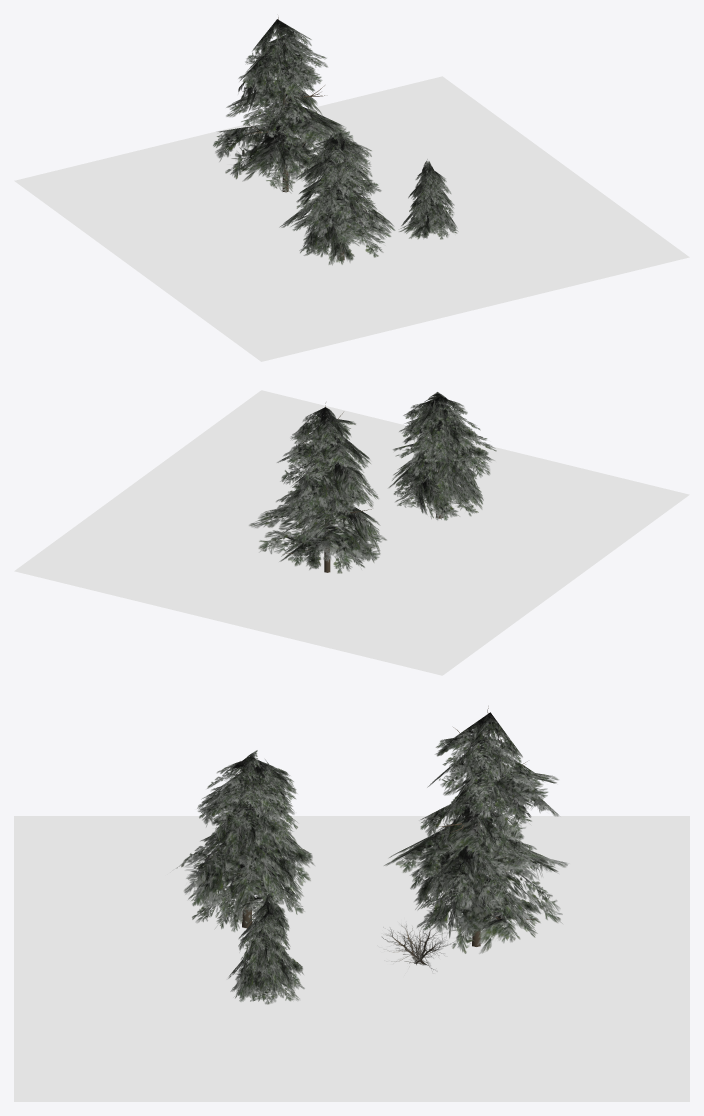
File: trees.glb
3 renders of one model, top to bottom at view 1: azimuth 30°, elevation 25°; view 2: azimuth 150°, elevation 25°; view 3: azimuth 270°, elevation 25°, orthographic. The views are drawn at different scales.
Parts seen in each view (by area): view 1: Plane, SnowTree2, SnowTree1, SnowTree1.001; view 2: Plane, SnowTree2, SnowTree1; view 3: Plane, SnowTree2, SnowTree1, SnowTree1.001, BushBare1.
Part boxes in pixels (x1,y1,x2,y2): Plane: (14, 76, 689, 361); SnowTree2: (213, 17, 353, 193); SnowTree1: (279, 129, 395, 265); SnowTree1.001: (399, 159, 458, 239); Plane: (14, 390, 689, 675); SnowTree2: (249, 403, 386, 573); SnowTree1: (388, 392, 496, 520); Plane: (14, 816, 689, 1101); SnowTree2: (384, 706, 569, 953); SnowTree1: (176, 750, 314, 931); SnowTree1.001: (228, 893, 304, 1004); BushBare1: (377, 921, 454, 971).
Size of the model in its own units: 18.27 by 7.95 by 18.27.
Materials: 4 (2 with a texture image).
